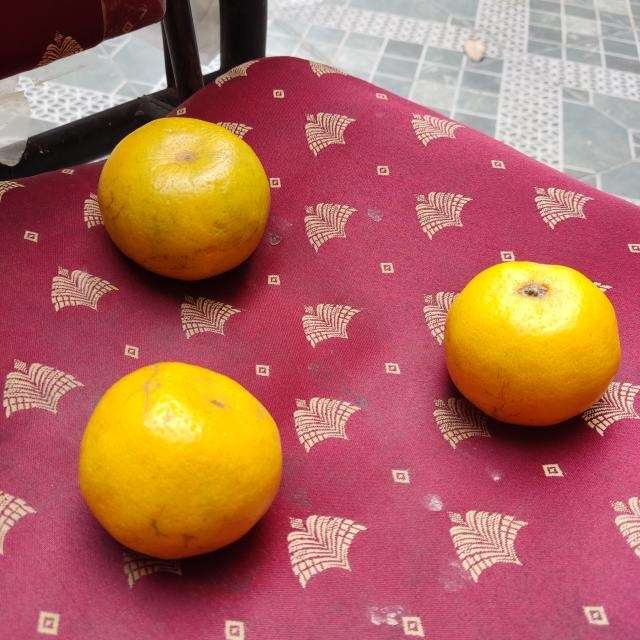agrume: (72, 360, 284, 560), (445, 259, 623, 427)
